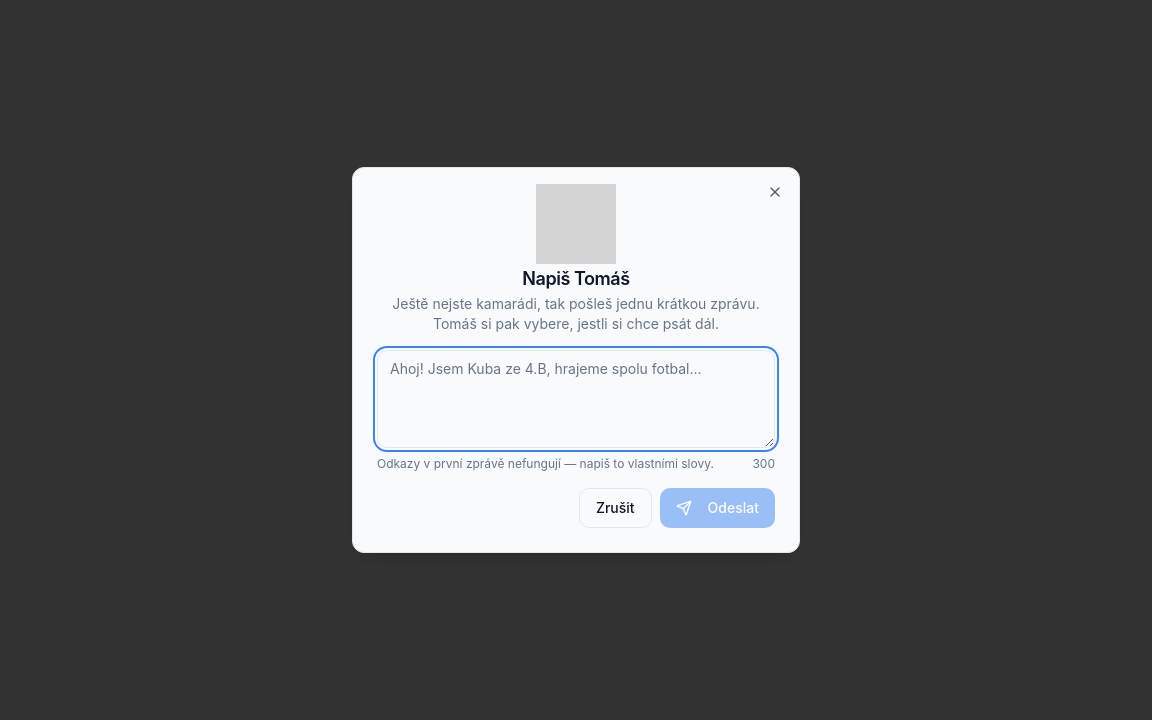
Scenario: MessageRequestDialog › nedovolí odeslat zprávu s odkazem
The width and height of the screenshot is (1152, 720).
Type "ahoj napis mi na www.neco.cz" into the text box. click: [576, 399]
box: x1=377 y1=350 x2=775 y2=448
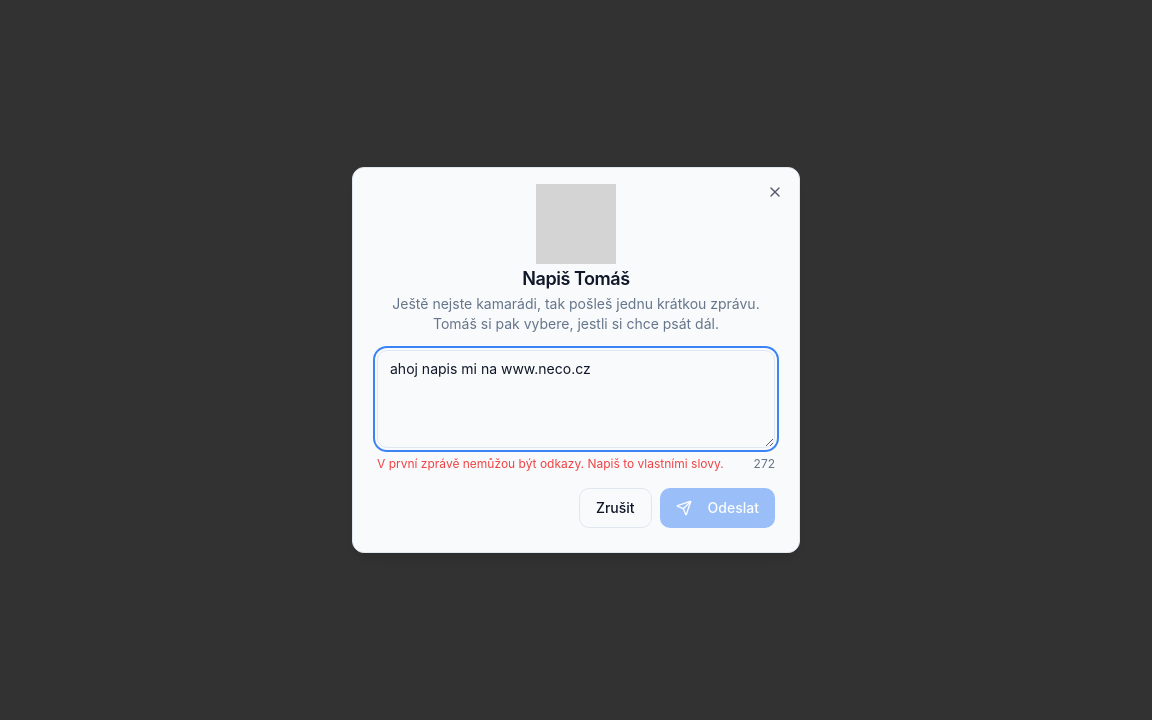
Expected: the button "Odeslat" is disabled, x1=660 y1=488 x2=775 y2=528
Expected: the text "V první zprávě nemůžou být odkazy. Napiš to vlastními slovy." is shown, x1=377 y1=456 x2=724 y2=472
